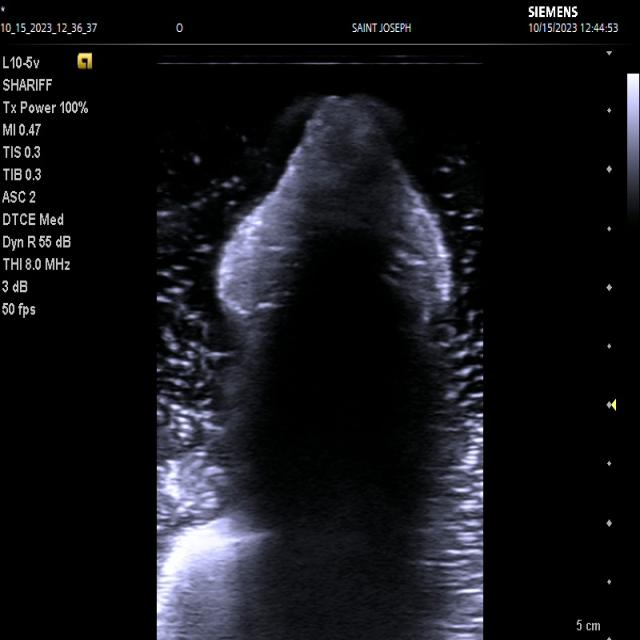tissue: (158, 97, 451, 640)
